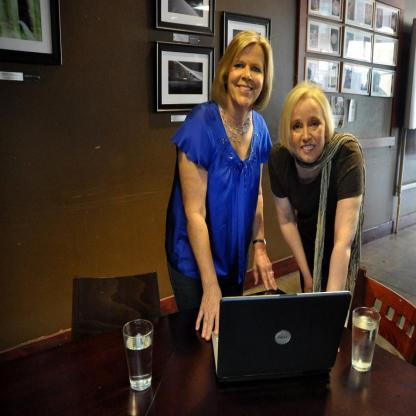board: (210, 289, 351, 388)
